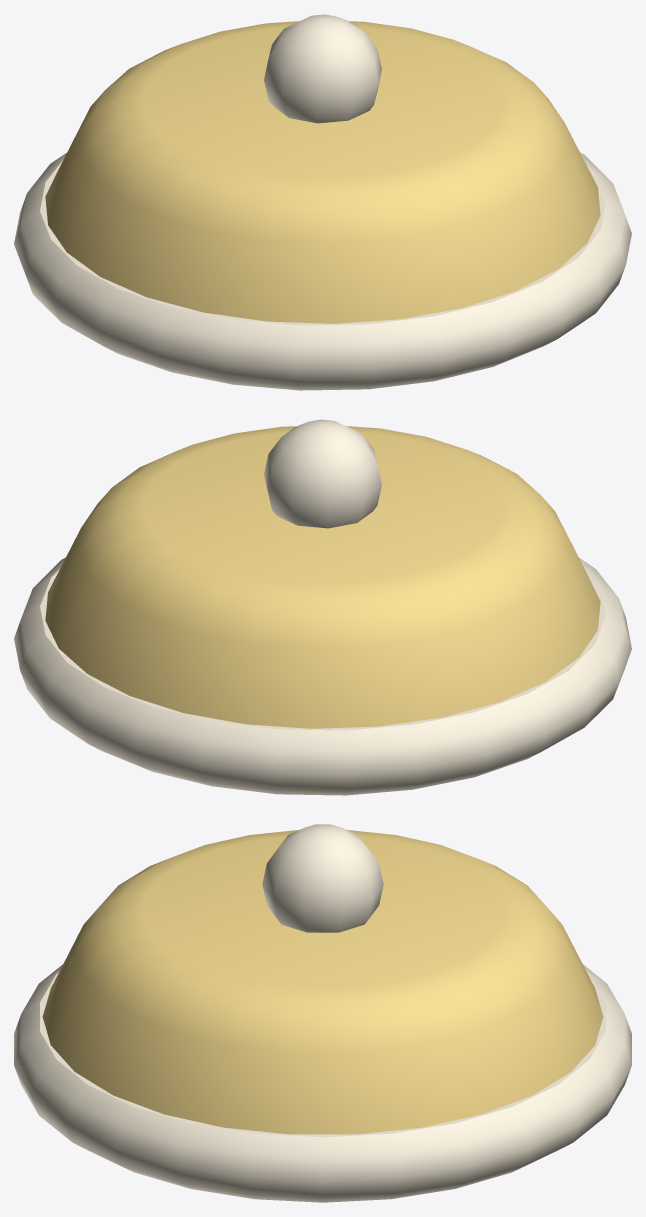
File: Acc_Beanie.fbx
The picture shows the model from 3 angles, top to bottom: view 1: azimuth 30°, elevation 25°; view 2: azimuth 150°, elevation 25°; view 3: azimuth 270°, elevation 25°; orthographic projection.
Parts seen in each view (by area): view 1: Beanie, Beanie_Rim, Beanie_Pom; view 2: Beanie, Beanie_Rim, Beanie_Pom; view 3: Beanie, Beanie_Rim, Beanie_Pom.
Part boxes in pixels (x1,y1,x2,y2): Beanie: (45,21,600,323); Beanie_Rim: (14,152,631,390); Beanie_Pom: (264,14,381,123); Beanie: (45,426,600,728); Beanie_Rim: (14,557,631,795); Beanie_Pom: (264,419,381,528); Beanie: (42,830,603,1134); Beanie_Rim: (14,964,631,1202); Beanie_Pom: (262,824,383,932).
Bounding box in the file's own units: 82 × 36.76 × 81.4.
